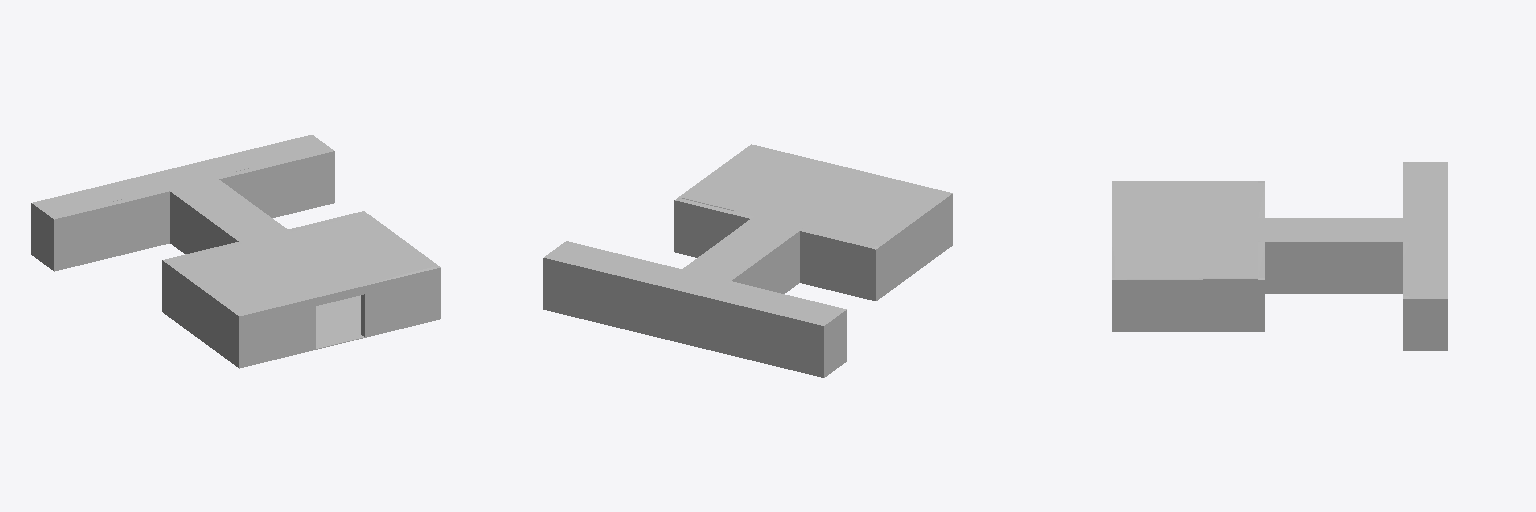
Rendered from hallway.obj.
The picture shows the model from 3 angles: view 1: azimuth 30°, elevation 25°; view 2: azimuth 150°, elevation 25°; view 3: azimuth 270°, elevation 25°; orthographic projection.
Visible parts, largest first — view 1: polySurface1 pCube1, polySurface2; view 2: polySurface1 pCube1, polySurface2; view 3: polySurface2, polySurface1 pCube1.
Boxes of the visible parts, x1=… form: polySurface1 pCube1: x1=31, y1=135, x2=440, y2=368; polySurface2: x1=35, y1=135, x2=437, y2=313; polySurface1 pCube1: x1=543, y1=144, x2=952, y2=377; polySurface2: x1=546, y1=145, x2=949, y2=323; polySurface2: x1=1115, y1=162, x2=1445, y2=296; polySurface1 pCube1: x1=1112, y1=162, x2=1447, y2=350.
Size of the model in its own units: 34.09 by 6.11 by 35.42.